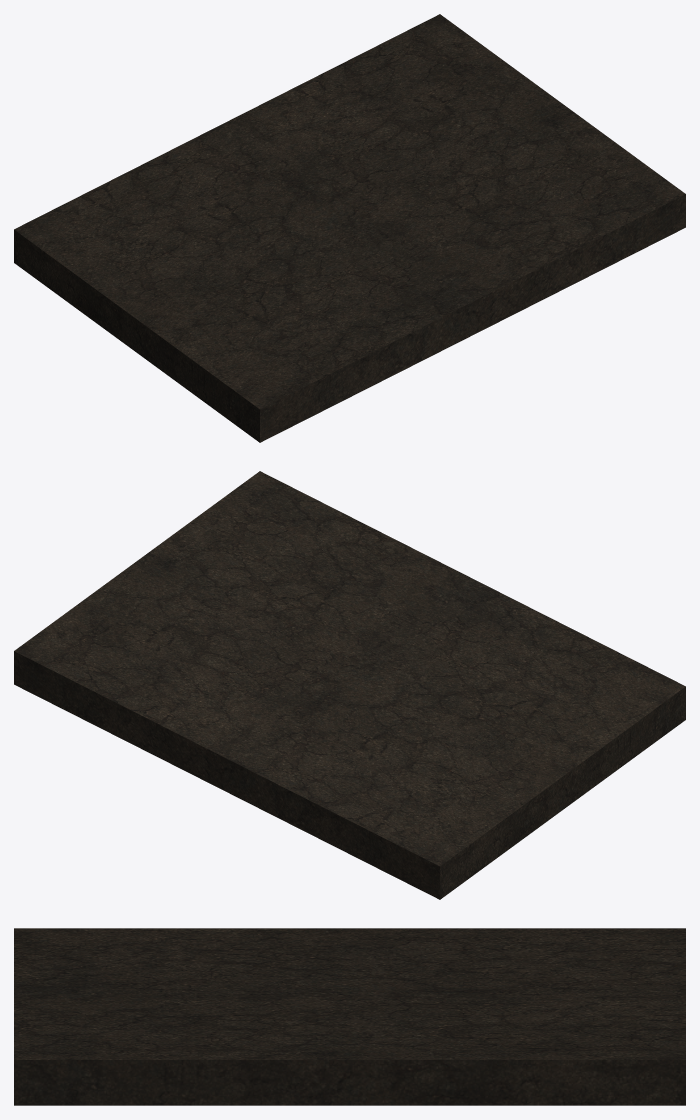
Rendered from floor_ceiling_hs_4.fbx.
3 views of the same model, one above another, from view 1: azimuth 30°, elevation 25°; view 2: azimuth 150°, elevation 25°; view 3: azimuth 270°, elevation 25° (orthographic). The views are drawn at different scales.
Visible parts, largest first — view 1: floor_ceiling_hs_4; view 2: floor_ceiling_hs_4; view 3: floor_ceiling_hs_4.
Part boxes in pixels (x1,y1,x2,y2): floor_ceiling_hs_4: [14, 14, 685, 442]; floor_ceiling_hs_4: [14, 471, 685, 899]; floor_ceiling_hs_4: [14, 928, 685, 1105].
Size of the model in its own units: 4 by 4 by 1.3.
